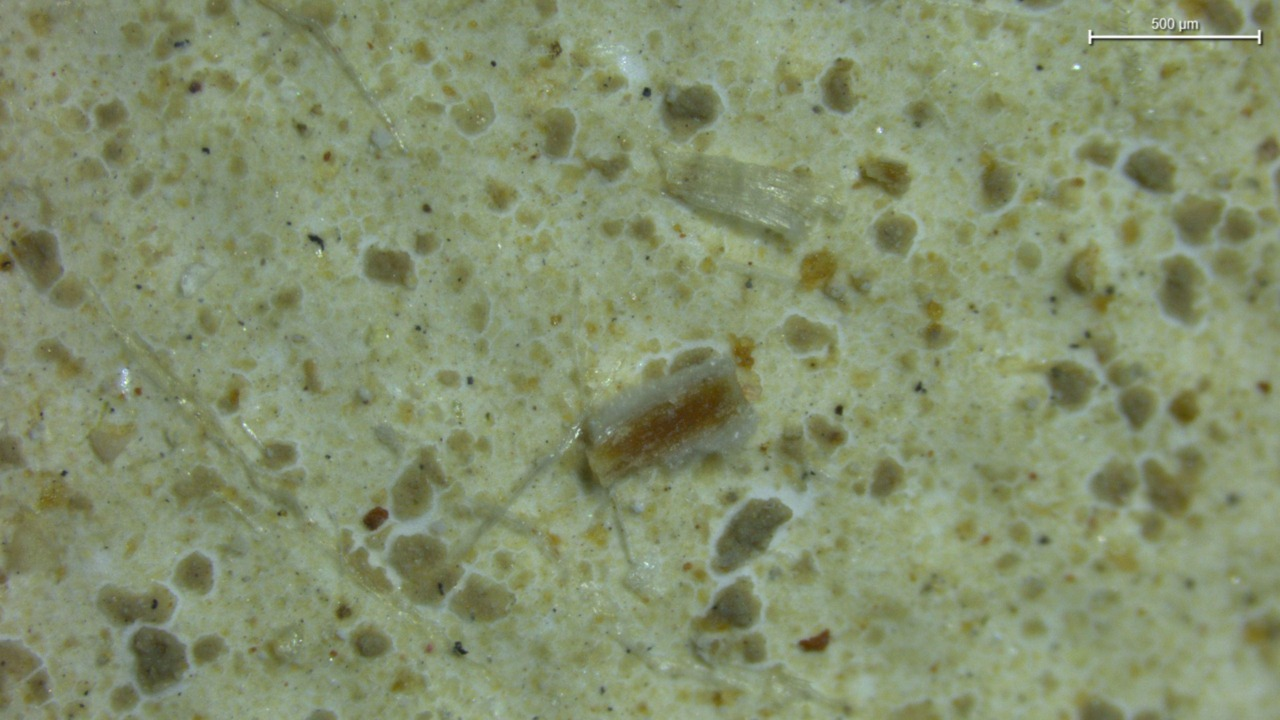microplastic_fragment: (582, 355, 754, 487), (651, 141, 840, 242), (627, 557, 666, 597)
